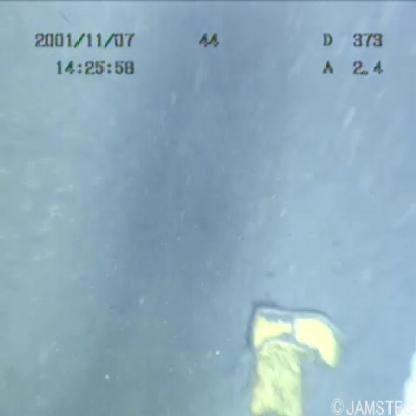Rác: (237, 285, 369, 416)
